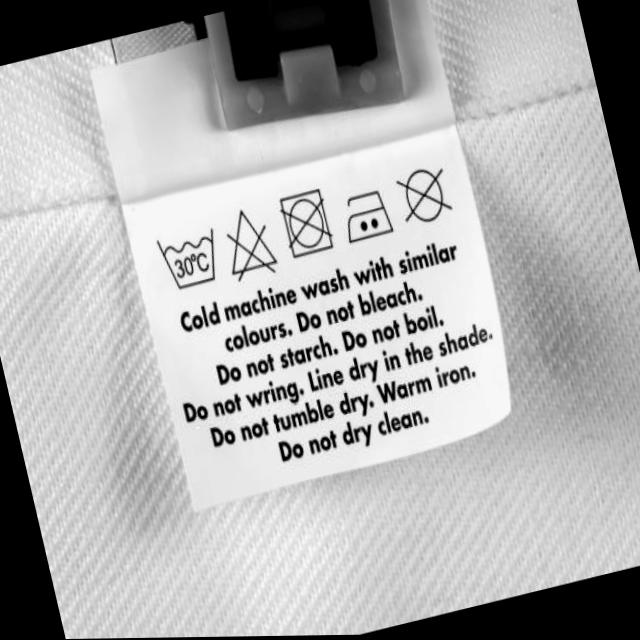30C: (161, 223, 221, 293)
DN_bleach: (224, 205, 279, 282)
DN_dry_clean: (397, 157, 457, 229)
DN_tumble_dry: (279, 187, 338, 260)
iron_medium: (340, 187, 395, 246)
